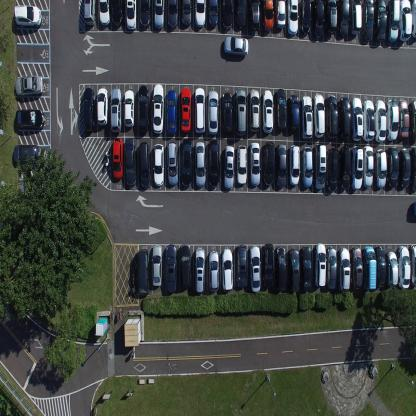car: (13, 4, 42, 28), (151, 82, 164, 134), (14, 74, 43, 97), (15, 108, 44, 131), (13, 142, 42, 165), (350, 144, 364, 191), (362, 245, 376, 291), (138, 140, 151, 189), (374, 0, 388, 44), (208, 138, 220, 189), (137, 83, 149, 134), (179, 87, 192, 134), (165, 243, 177, 293), (262, 140, 275, 186), (235, 87, 247, 136), (180, 138, 192, 187), (249, 244, 261, 292), (275, 141, 287, 189), (314, 142, 326, 190), (338, 96, 351, 140), (137, 249, 149, 296), (399, 0, 412, 43), (179, 244, 191, 290), (207, 90, 219, 136), (301, 94, 313, 140), (350, 245, 362, 291), (338, 247, 350, 293), (314, 241, 326, 287), (274, 246, 286, 292), (110, 86, 122, 132), (166, 140, 178, 186), (83, 86, 95, 132), (125, 136, 136, 186), (223, 145, 235, 190), (236, 244, 248, 289), (248, 88, 260, 133), (262, 89, 274, 134), (313, 93, 325, 138), (326, 95, 338, 140), (326, 246, 338, 291), (386, 146, 399, 187), (96, 85, 109, 126), (301, 145, 313, 189), (327, 146, 338, 194), (275, 86, 287, 130), (338, 146, 350, 190), (300, 246, 312, 290), (195, 140, 206, 188), (194, 86, 205, 134), (223, 34, 249, 54), (263, 242, 274, 289), (194, 247, 205, 294), (208, 250, 220, 293), (288, 143, 300, 186), (398, 245, 410, 288), (374, 245, 386, 288), (112, 136, 124, 179), (351, 98, 363, 140), (363, 98, 375, 140), (387, 0, 399, 42), (166, 89, 177, 134), (337, 0, 350, 38), (236, 144, 248, 185), (362, 0, 374, 41), (222, 248, 233, 292), (288, 247, 299, 291), (153, 142, 164, 186), (374, 148, 386, 188), (123, 88, 135, 128), (312, 0, 324, 39), (375, 99, 386, 141), (387, 98, 398, 140), (222, 91, 232, 137), (250, 141, 260, 187), (385, 251, 398, 286), (286, 0, 299, 35), (152, 244, 162, 288), (399, 148, 410, 188), (299, 0, 311, 36), (398, 99, 409, 138), (261, 0, 274, 33), (364, 145, 374, 187), (350, 0, 362, 35), (325, 0, 337, 35), (248, 0, 260, 33), (234, 0, 247, 30), (289, 94, 299, 132), (139, 0, 152, 29), (221, 0, 233, 31), (274, 0, 286, 30), (83, 0, 96, 27), (207, 0, 219, 29), (194, 0, 206, 29), (166, 0, 178, 29), (126, 0, 137, 30), (180, 0, 192, 27), (98, 0, 110, 27), (111, 0, 123, 26), (409, 244, 416, 288), (154, 0, 164, 30), (409, 101, 416, 141), (410, 147, 416, 192), (412, 0, 416, 40), (412, 200, 416, 218)
